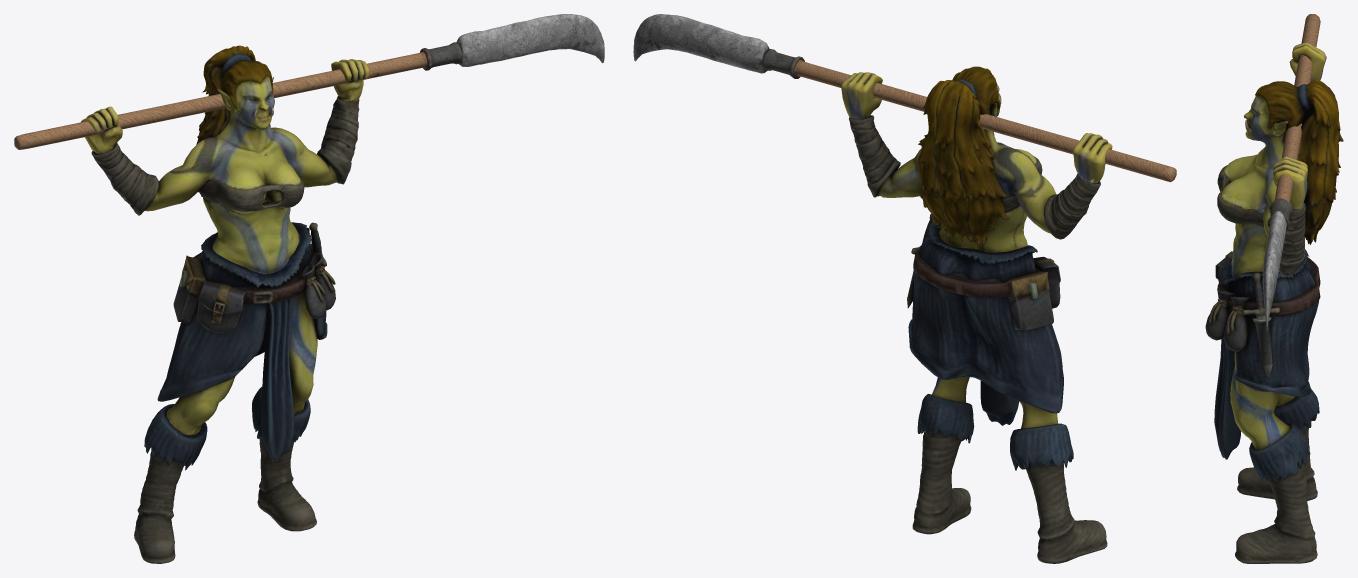
Rendered from MZ4250 - Half Orc Female Barbarian_blue_glaive.glb.
3 renders of one model, left to right at view 1: azimuth 30°, elevation 25°; view 2: azimuth 150°, elevation 25°; view 3: azimuth 270°, elevation 25°, orthographic.
Parts seen in each view (by area): view 1: Body.002; view 2: Body.002; view 3: Body.002.
Boxes of the visible parts, bbox=[...] form: Body.002: bbox=[14, 14, 604, 563]; Body.002: bbox=[633, 14, 1176, 563]; Body.002: bbox=[1205, 14, 1343, 563].
Size of the model in its own units: 52.26 by 40.82 by 11.15.
Materials: 2 (2 with a texture image).
